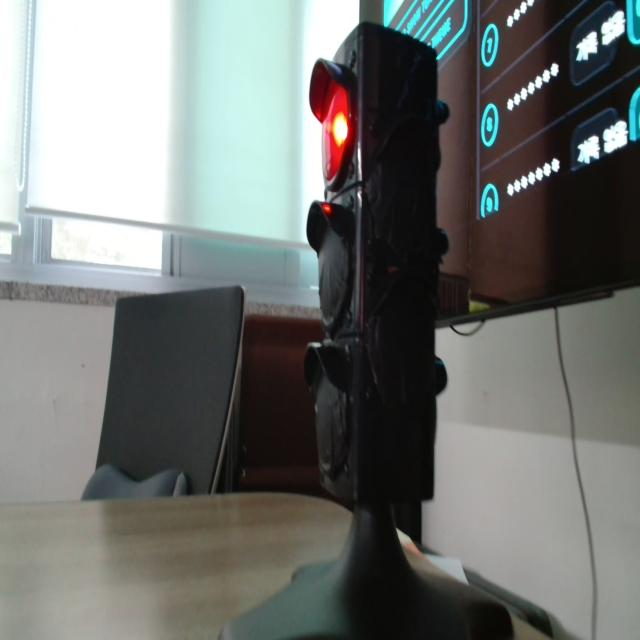red_light: (310, 60, 356, 191), (322, 83, 348, 181), (332, 112, 348, 147), (322, 203, 331, 215)
